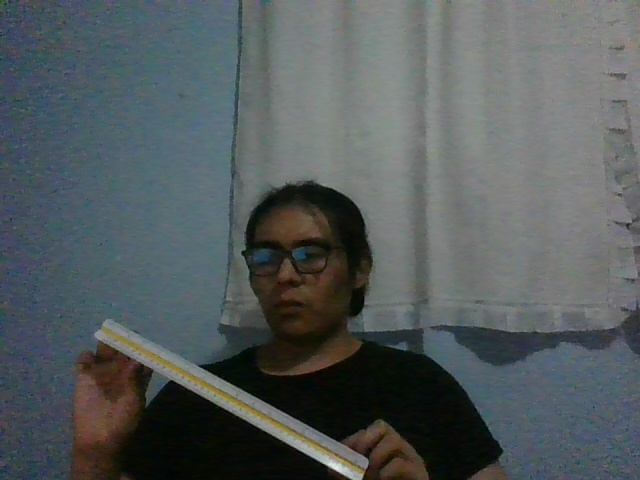regla: (94, 319, 368, 480)
